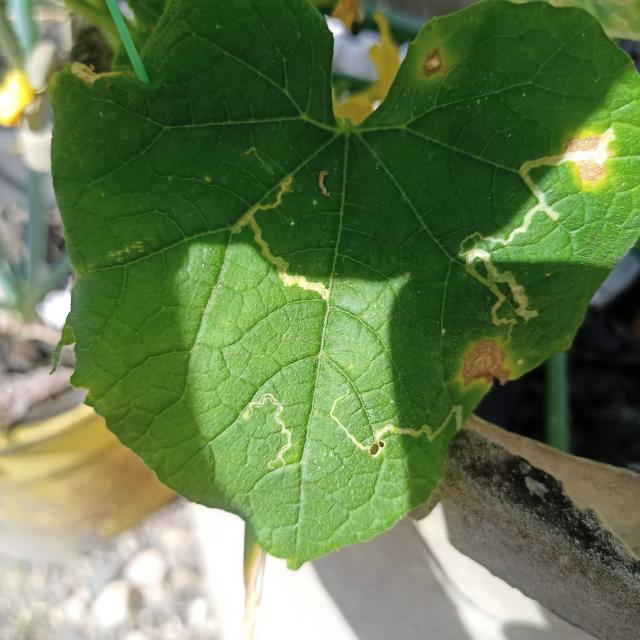disease_cucumber: (454, 336, 512, 392), (562, 130, 610, 188), (418, 47, 447, 84)
